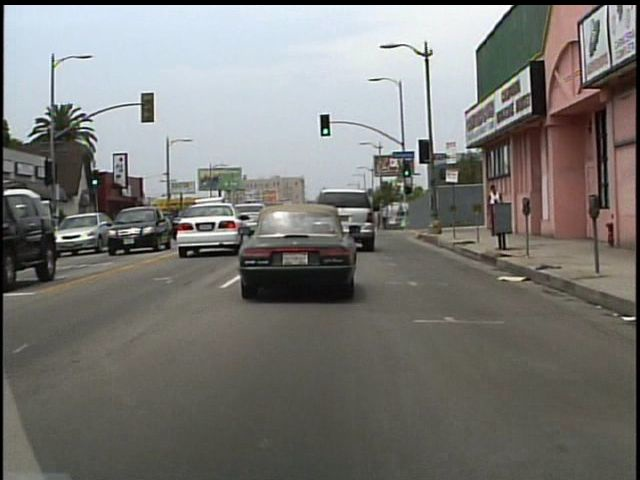person: (484, 183, 505, 237)
